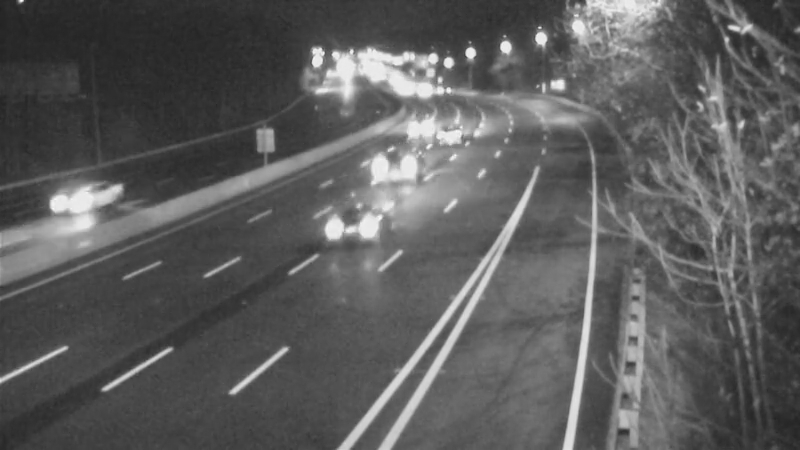vehicle: (360, 122, 440, 202), (304, 192, 384, 272), (30, 162, 110, 242), (418, 67, 468, 117), (400, 64, 450, 114), (379, 65, 429, 115), (393, 101, 443, 151), (429, 111, 479, 161)
